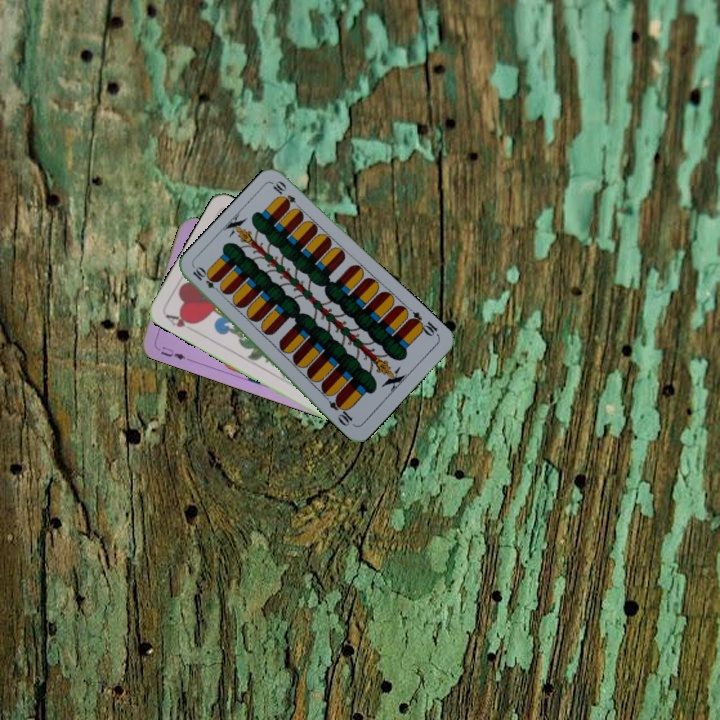E10: (405, 307, 442, 339), (189, 263, 224, 296)
EU: (152, 342, 191, 363)
HA: (161, 310, 200, 330)
